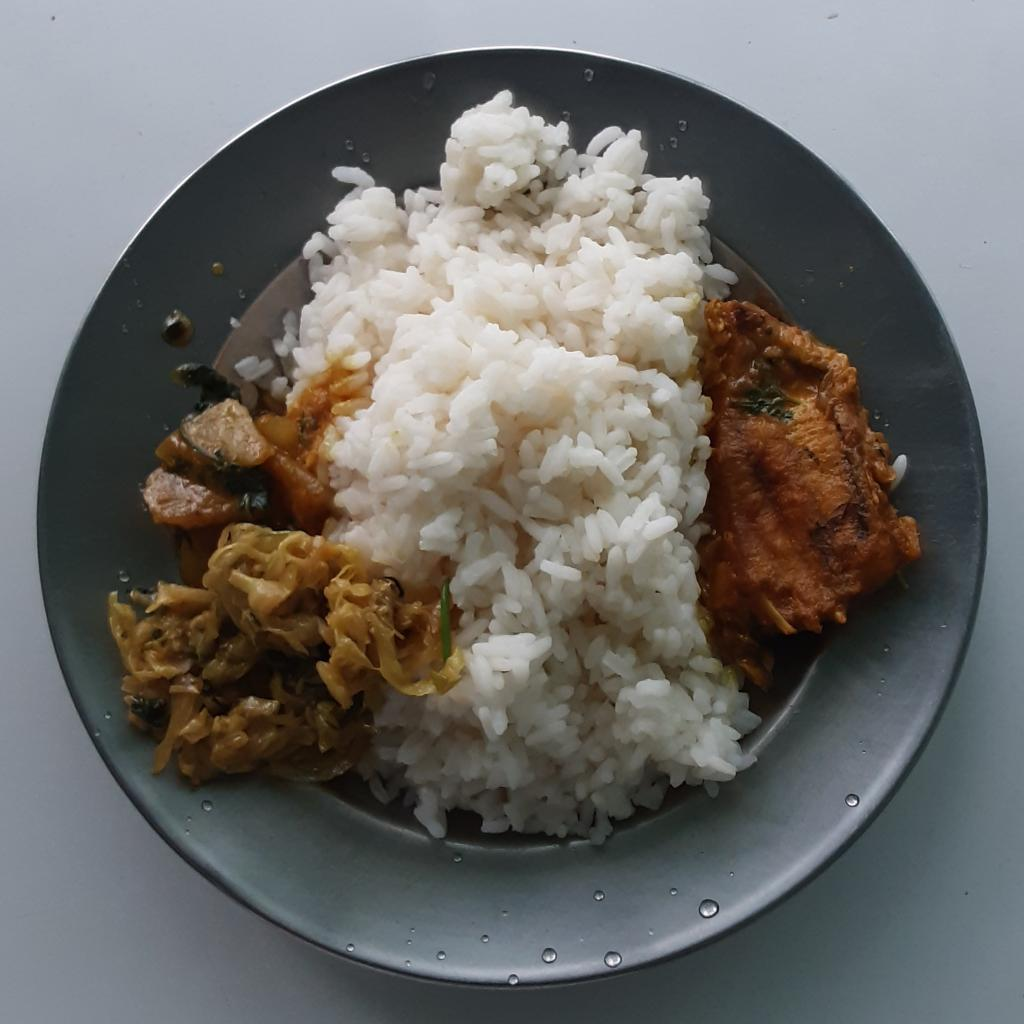cabbage: (104, 524, 465, 788)
fish: (696, 296, 922, 692)
potato: (140, 353, 323, 580)
rice: (237, 85, 762, 848)
